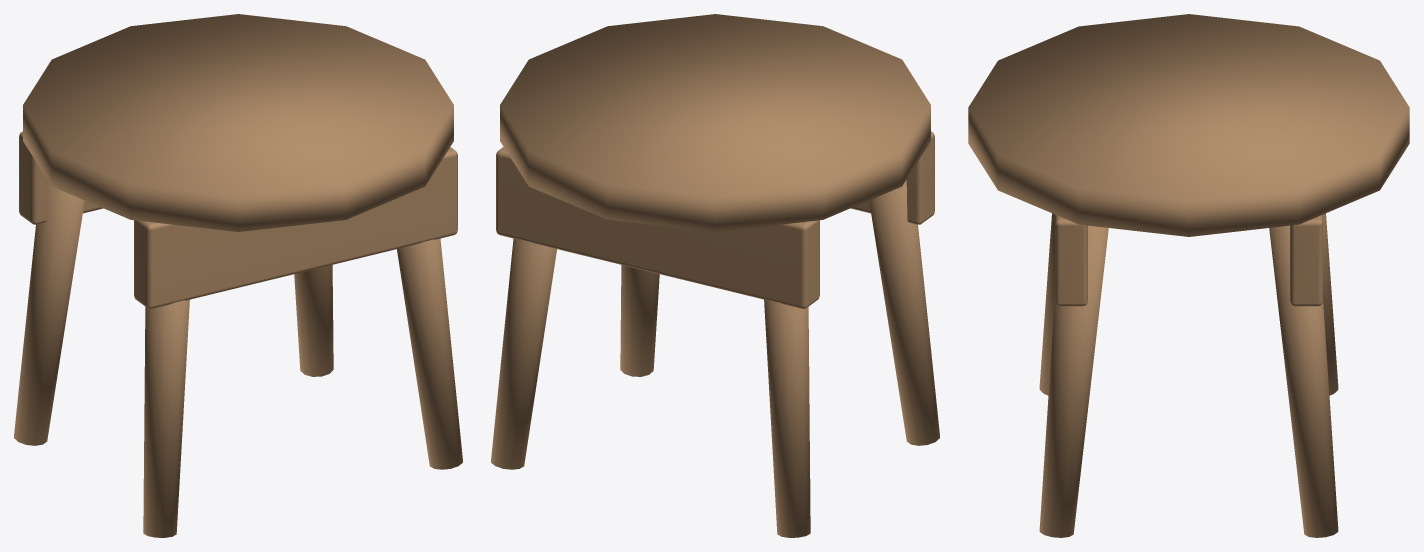
Rendered from atelier-accent-table.glb.
3 views of the same model, side by side, from view 1: azimuth 30°, elevation 25°; view 2: azimuth 150°, elevation 25°; view 3: azimuth 270°, elevation 25° (orthographic). The views are drawn at different scales.
Parts seen in each view (by area): view 1: legs.055; view 2: legs.055; view 3: legs.055.
Part boxes in pixels (box(x1,y1,x2,y2)): legs.055: box(14, 14, 462, 537); legs.055: box(491, 14, 939, 537); legs.055: box(968, 14, 1409, 537).
Bounding box in the file's own units: 0.6 × 0.5329 × 0.6.
